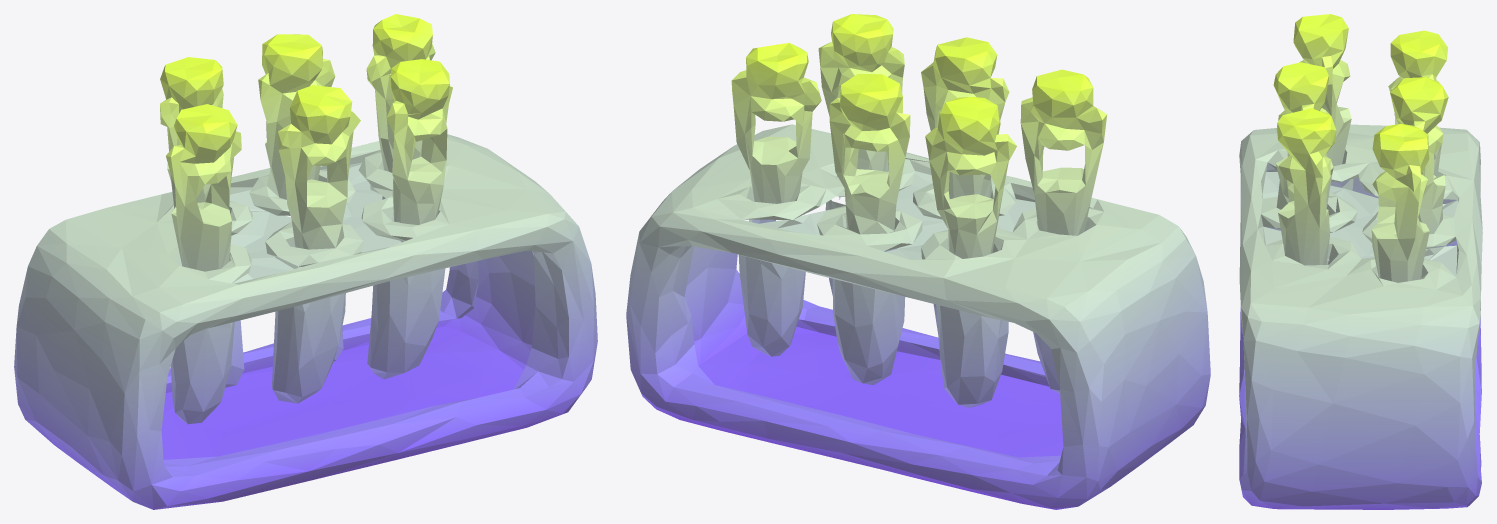
File: 116_cyb_laser_gradient_fish_scales_2953_2026_10_03_4cb44b.glb
The picture shows the model from 3 angles, left to right: view 1: azimuth 30°, elevation 25°; view 2: azimuth 150°, elevation 25°; view 3: azimuth 270°, elevation 25°; orthographic projection. The views are drawn at different scales.
Parts seen in each view (by area): view 1: geometry_0; view 2: geometry_0; view 3: geometry_0.
Boxes of the visible parts, x1,y1,x2,y2 form: geometry_0: [14, 14, 597, 509]; geometry_0: [626, 14, 1210, 509]; geometry_0: [1239, 14, 1482, 509].
Size of the model in its own units: 0.9985 by 0.7173 by 0.4652.
